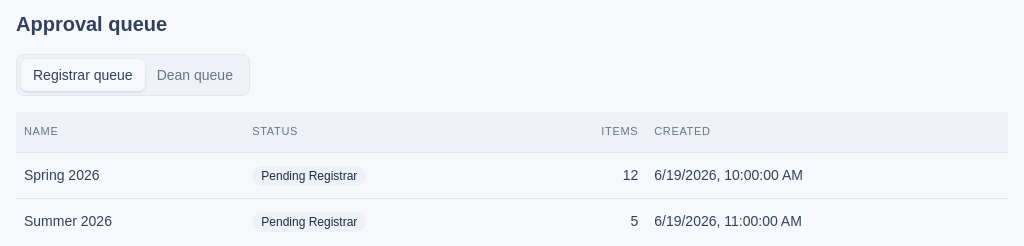
Test: QueuePage › toggles between registrar and dean queues for a user with both roles
Expected: the text "Spring 2026" is shown, [16, 152, 244, 198]
Switch to dean queue → batch list changes
Click the tab with test id "gate-toggle-PENDING_DEAN" at (195, 75), box [145, 59, 245, 91]
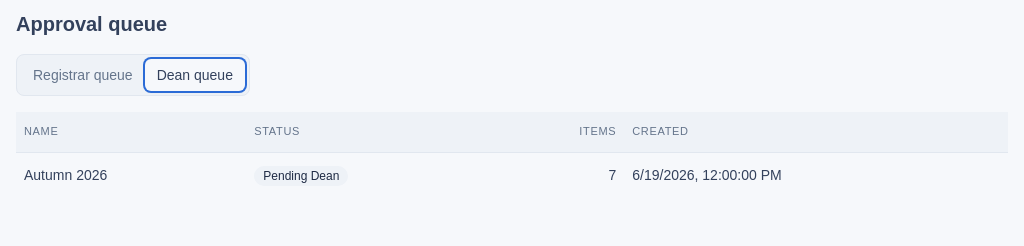
Expected: the text "Autumn 2026" is shown, [16, 152, 246, 198]
Expected: the button "Spring 2026" is gone
